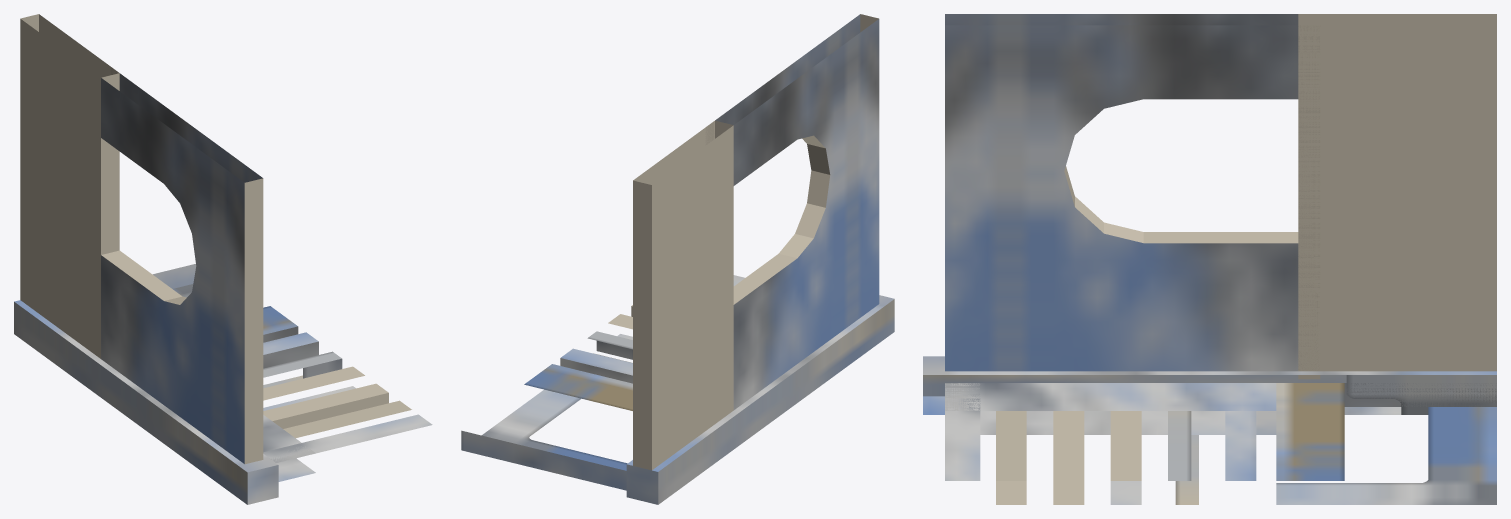
The model's file is section-2.obj.
3 renders of one model, left to right at view 1: azimuth 30°, elevation 25°; view 2: azimuth 150°, elevation 25°; view 3: azimuth 270°, elevation 25°, orthographic. The views are drawn at different scales.
Bounding box in the file's own units: 0.625 × 0.965 × 1.3.
